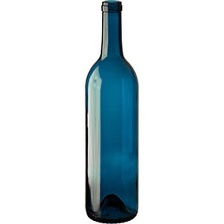bottle: (76, 0, 147, 223)
